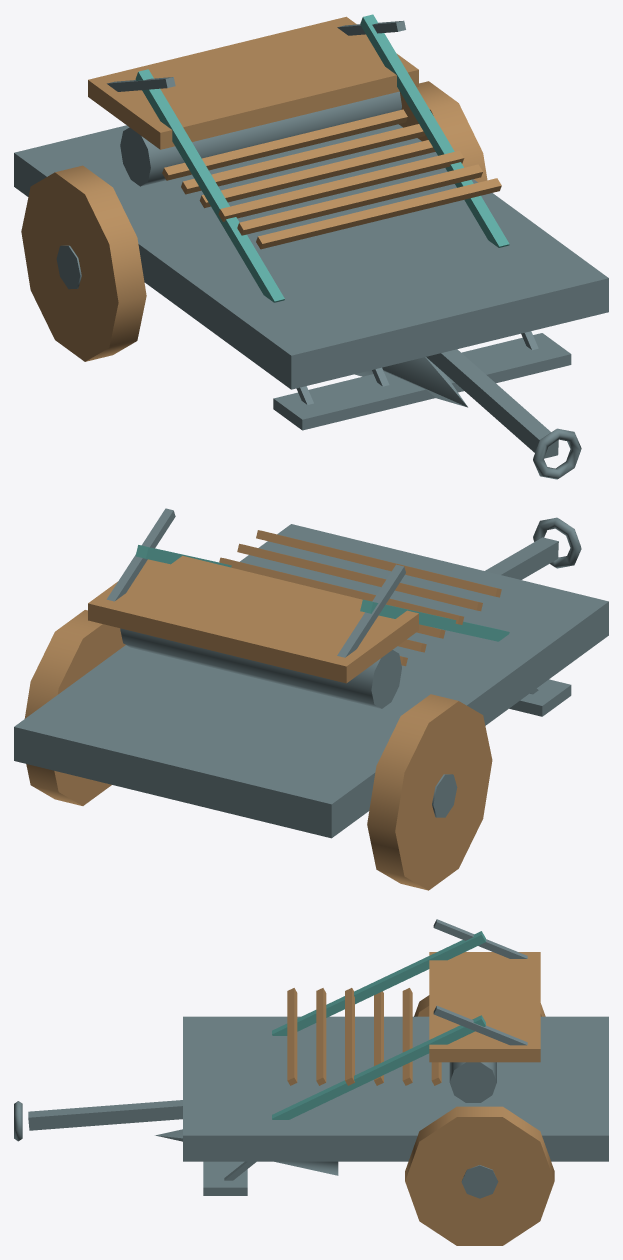
The model's file is Potato-Harvester.glb.
The picture shows the model from 3 angles, top to bottom: view 1: azimuth 30°, elevation 25°; view 2: azimuth 150°, elevation 25°; view 3: azimuth 270°, elevation 25°; orthographic projection. The views are drawn at different scales.
Parts seen in each view (by area): view 1: potato-harvester-static-potato-harvester-iron-mat, potato-harvester-static-potato-harvester-timber-mat, potato-harvester-static-potato-harvester-wheel-mat, potato-harvester-static-potato-harvester-steel-mat, potato-harvester-static-potato-harvester-paint-mat; view 2: potato-harvester-static-potato-harvester-iron-mat, potato-harvester-static-potato-harvester-timber-mat, potato-harvester-static-potato-harvester-wheel-mat, potato-harvester-static-potato-harvester-steel-mat, potato-harvester-static-potato-harvester-paint-mat; view 3: potato-harvester-static-potato-harvester-iron-mat, potato-harvester-static-potato-harvester-wheel-mat, potato-harvester-static-potato-harvester-timber-mat, potato-harvester-static-potato-harvester-steel-mat, potato-harvester-static-potato-harvester-paint-mat.
Boxes of the visible parts, <box> form: potato-harvester-static-potato-harvester-iron-mat: <box>14,20,608,458</box>; potato-harvester-static-potato-harvester-timber-mat: <box>88,16,501,249</box>; potato-harvester-static-potato-harvester-wheel-mat: <box>21,81,487,361</box>; potato-harvester-static-potato-harvester-steel-mat: <box>56,91,581,479</box>; potato-harvester-static-potato-harvester-paint-mat: <box>135,14,509,302</box>; potato-harvester-static-potato-harvester-iron-mat: <box>14,508,608,838</box>; potato-harvester-static-potato-harvester-timber-mat: <box>88,530,501,683</box>; potato-harvester-static-potato-harvester-wheel-mat: <box>24,610,492,890</box>; potato-harvester-static-potato-harvester-steel-mat: <box>120,517,581,817</box>; potato-harvester-static-potato-harvester-paint-mat: <box>135,545,509,641</box>; potato-harvester-static-potato-harvester-iron-mat: <box>28,919,608,1161</box>; potato-harvester-static-potato-harvester-wheel-mat: <box>405,995,554,1245</box>; potato-harvester-static-potato-harvester-timber-mat: <box>287,952,540,1085</box>; potato-harvester-static-potato-harvester-steel-mat: <box>14,1062,498,1198</box>; potato-harvester-static-potato-harvester-paint-mat: <box>272,931,485,1119</box>.
Bounding box in the file's own units: 2.55 × 1.79 × 4.54.
